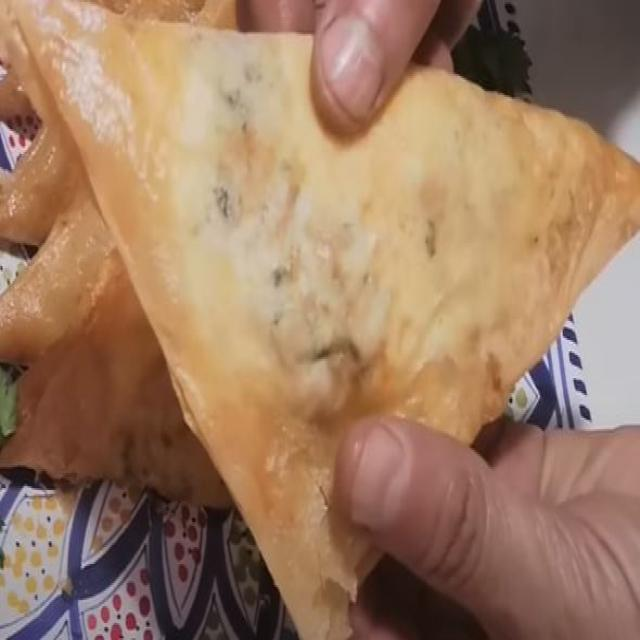brik: (4, 19, 640, 578)
